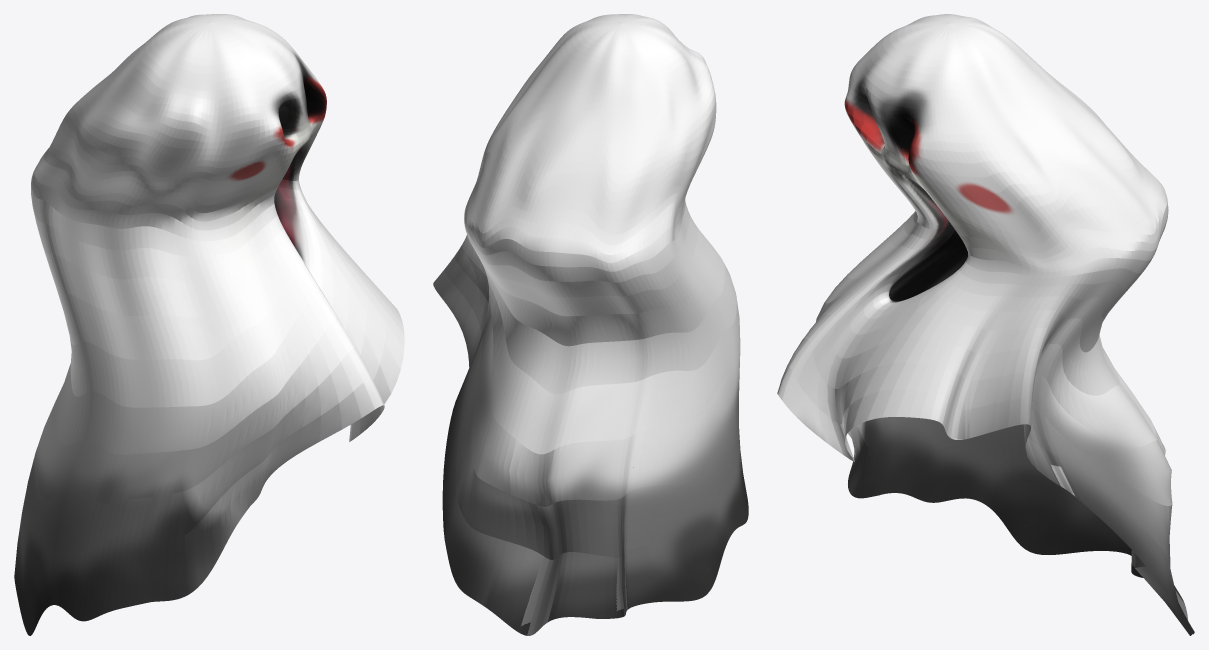
The model's file is ghost_000023.obj.
3 views of the same model, side by side, from view 1: azimuth 30°, elevation 25°; view 2: azimuth 150°, elevation 25°; view 3: azimuth 270°, elevation 25° (orthographic). The views are drawn at different scales.
Visible parts, largest first — view 1: 球体; view 2: 球体; view 3: 球体.
Part boxes in pixels (box(x1,y1,x2,y2)): 球体: box(14, 14, 404, 635); 球体: box(433, 14, 748, 635); 球体: box(777, 14, 1194, 635).
Size of the model in its own units: 8.62 by 15.89 by 9.78.
1 material, 1 textured.
